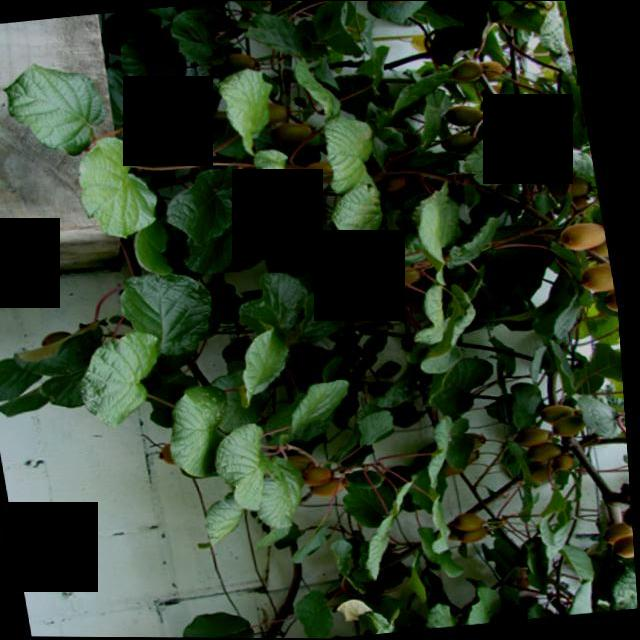kiwi: (565, 223, 615, 254), (556, 173, 603, 201), (350, 259, 396, 287), (254, 103, 301, 129), (585, 266, 622, 297), (387, 267, 432, 292), (290, 167, 330, 194), (313, 162, 353, 189), (279, 456, 318, 482), (281, 123, 325, 145), (557, 416, 593, 441), (456, 105, 493, 129), (532, 444, 572, 466), (235, 54, 273, 76), (606, 523, 636, 548), (314, 480, 351, 500), (450, 134, 487, 154), (531, 464, 564, 486), (461, 63, 495, 84), (357, 308, 392, 328), (458, 513, 491, 534), (548, 405, 582, 425), (484, 62, 517, 82), (456, 434, 492, 452), (460, 527, 494, 546), (308, 469, 341, 488), (491, 86, 523, 104), (617, 534, 637, 560), (390, 176, 417, 195), (456, 450, 485, 467), (558, 457, 580, 473), (625, 505, 636, 535), (490, 101, 512, 116), (386, 2, 428, 7)
